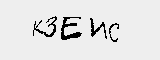Е: (59, 14, 81, 41)
З: (42, 12, 56, 40)
И: (88, 15, 108, 41)
К: (30, 17, 49, 39)
С: (107, 19, 120, 44)
